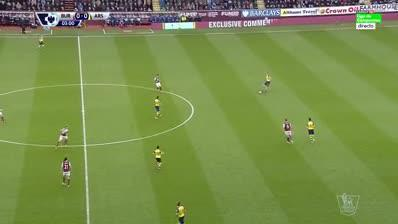futbol: (257, 90, 263, 95)
player: (58, 155, 74, 190), (55, 124, 72, 151), (151, 144, 166, 173), (258, 69, 274, 96), (304, 116, 318, 146), (282, 117, 296, 146), (152, 94, 166, 122), (172, 200, 189, 223), (152, 73, 165, 94), (36, 32, 48, 50)
